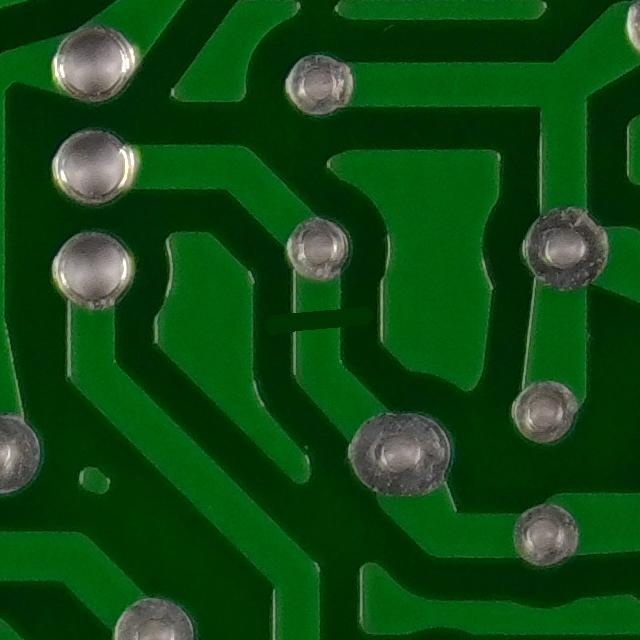open_circuit: (278, 291, 362, 349)
